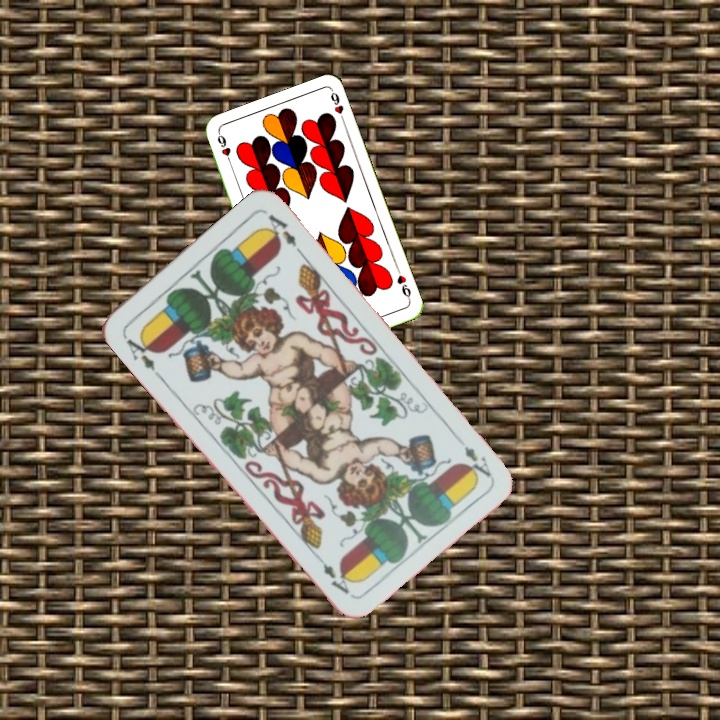EA: (119, 328, 163, 380), (458, 442, 494, 483)
H9: (213, 129, 234, 169), (393, 264, 413, 304)
